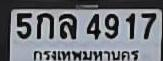1: (125, 12, 134, 38)
4: (86, 13, 100, 39)
5: (16, 12, 31, 38)
7: (140, 12, 155, 38)
9: (104, 13, 118, 38)
A01: (36, 12, 53, 38)
A36: (58, 13, 76, 38)
BKK: (29, 48, 142, 61)
